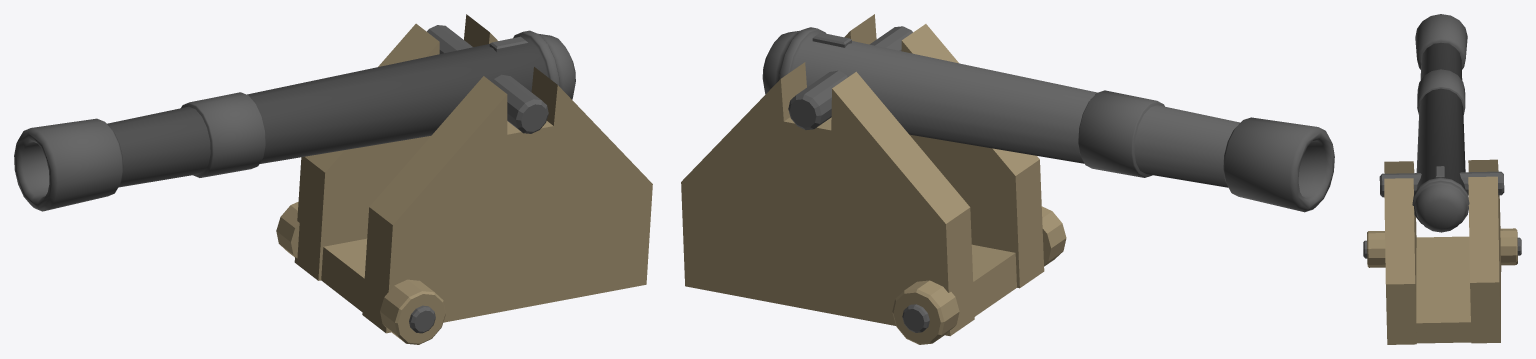
File: sloop-cannon-port.glb
3 renders of one model, left to right at view 1: azimuth 30°, elevation 25°; view 2: azimuth 150°, elevation 25°; view 3: azimuth 270°, elevation 25°, orthographic. The views are drawn at different scales.
Parts seen in each view (by area): view 1: Cube.085, Cylinder.054, Cube.086, Cylinder.055, Cylinder.057, Cylinder.052, Cube.087, Cylinder.056, Cylinder.060, Cylinder.059, Cylinder.053; view 2: Cube.086, Cylinder.054, Cube.085, Cylinder.055, Cylinder.057, Cylinder.060, Cube.087, Cylinder.059, Cylinder.052, Cylinder.061, Cylinder.056; view 3: Cylinder.054, Cube.087, Cube.086, Cube.085, Cylinder.055, Cylinder.057, Cylinder.052, Cylinder.060, Cylinder.059, Cylinder.056.
Boxes of the visible parts, left/top/right/bottom form: Cube.085: left=362, top=67, right=652, bottom=333; Cylinder.054: left=107, top=30, right=575, bottom=187; Cube.086: left=294, top=14, right=497, bottom=280; Cylinder.055: left=14, top=118, right=123, bottom=211; Cylinder.057: left=181, top=92, right=265, bottom=177; Cylinder.052: left=380, top=279, right=445, bottom=344; Cube.087: left=321, top=238, right=366, bottom=312; Cylinder.056: left=492, top=74, right=548, bottom=133; Cylinder.060: left=276, top=201, right=299, bottom=258; Cylinder.059: left=427, top=25, right=472, bottom=53; Cylinder.053: left=409, top=305, right=435, bottom=333; Cube.086: left=681, top=62, right=974, bottom=336; Cylinder.054: left=762, top=27, right=1239, bottom=187; Cube.085: left=844, top=14, right=1044, bottom=288; Cylinder.055: left=1223, top=117, right=1334, bottom=212; Cylinder.057: left=1078, top=90, right=1164, bottom=177; Cylinder.060: left=892, top=280, right=959, bottom=344; Cube.087: left=971, top=244, right=1016, bottom=316; Cylinder.059: left=788, top=70, right=847, bottom=129; Cylinder.052: left=1041, top=206, right=1066, bottom=266; Cylinder.061: left=902, top=304, right=929, bottom=332; Cylinder.056: left=869, top=26, right=912, bottom=50; Cylinder.054: left=1412, top=42, right=1469, bottom=232; Cube.087: left=1416, top=236, right=1471, bottom=343; Cube.086: left=1468, top=159, right=1501, bottom=343; Cube.085: left=1384, top=161, right=1416, bottom=344; Cylinder.055: left=1415, top=14, right=1467, bottom=69; Cylinder.057: left=1417, top=69, right=1465, bottom=114; Cylinder.052: left=1367, top=231, right=1385, bottom=267; Cylinder.060: left=1500, top=228, right=1517, bottom=265; Cylinder.059: left=1460, top=171, right=1504, bottom=195; Cylinder.056: left=1379, top=173, right=1421, bottom=197.
Bounding box in the file's own units: 1.26 × 0.5416 × 0.4845.
